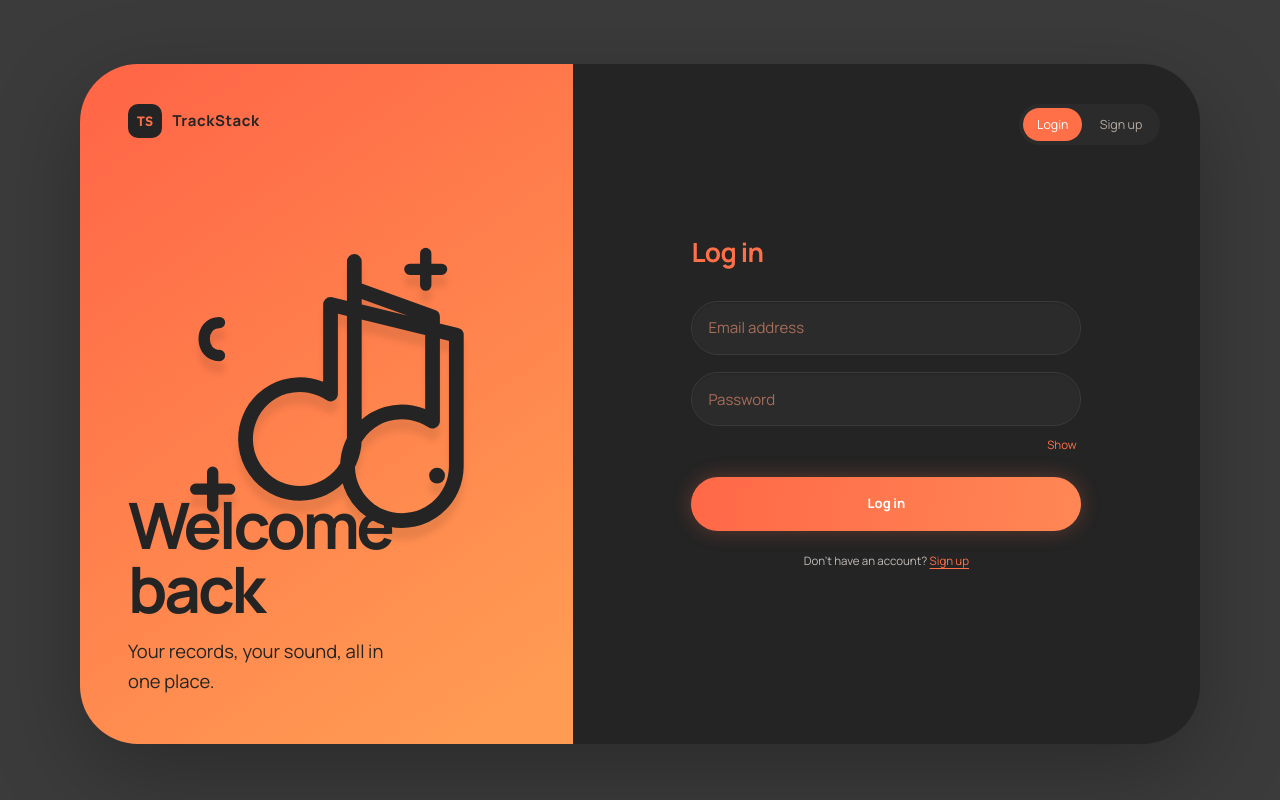
Test: preserves the intended protected page through login in the application routes
The width and height of the screenshot is (1280, 800).
In the field labelled "Email": (886, 328) [691,301,1081,355], type "listener@example.com"
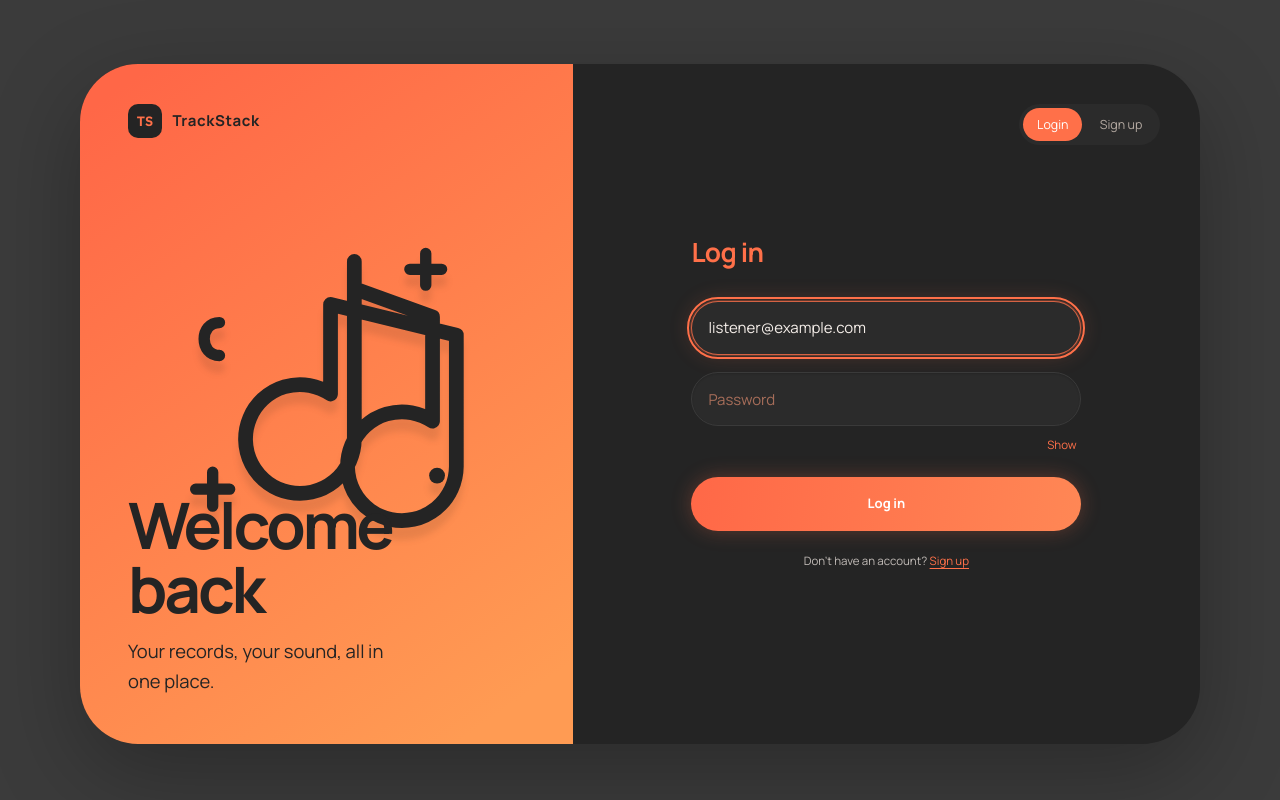
In the password field labelled "Password": (886, 399) [691,372,1081,426], type "secure-password"
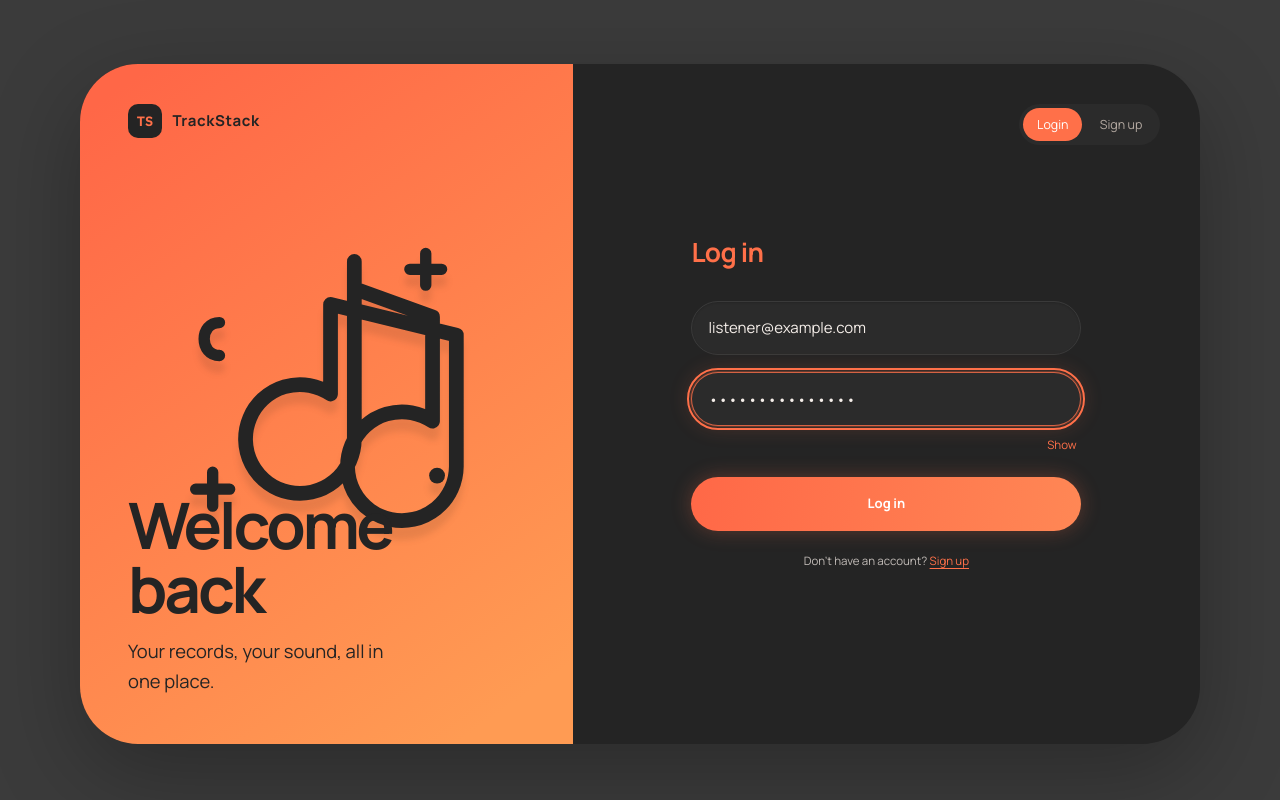
Click the button "Log in": click(886, 504) [691,477,1081,531]
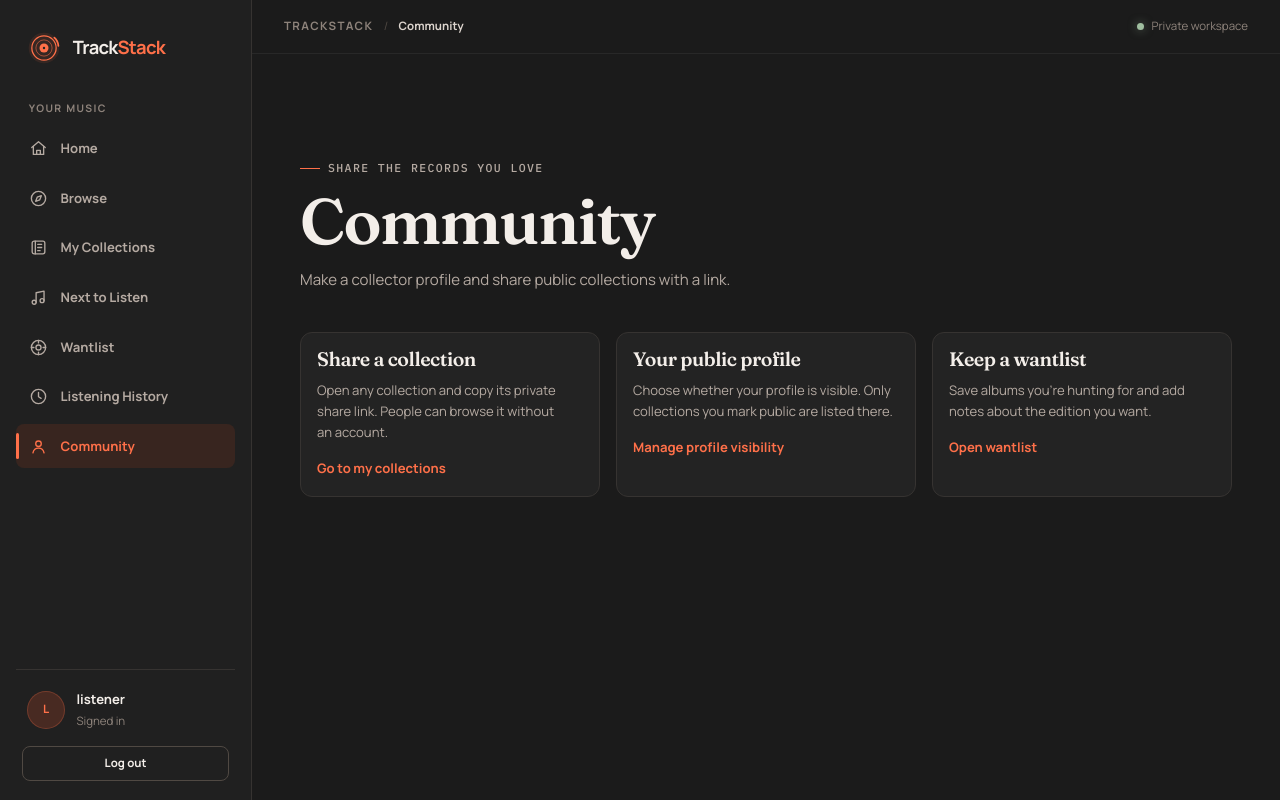
Result: the heading "Community" is shown at [300,181,655,260]
